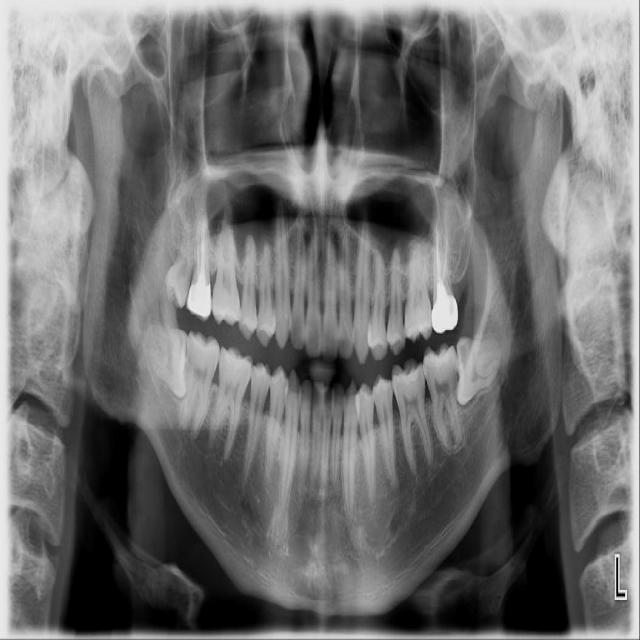Caries: (449, 370, 457, 396)
Crown: (432, 289, 458, 334), (185, 282, 212, 321)
Root Canal Treatment: (440, 227, 447, 276), (203, 223, 207, 276), (197, 223, 201, 272), (437, 223, 440, 275)
impacted tooth: (137, 323, 187, 398), (455, 334, 503, 405)
